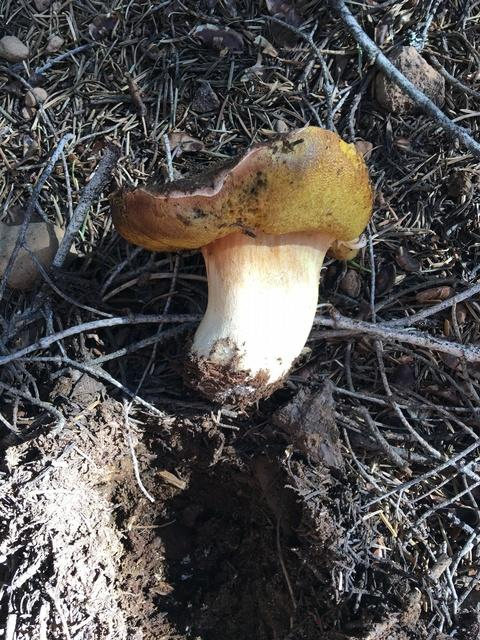Edible Mushroom: (106, 124, 374, 408)
